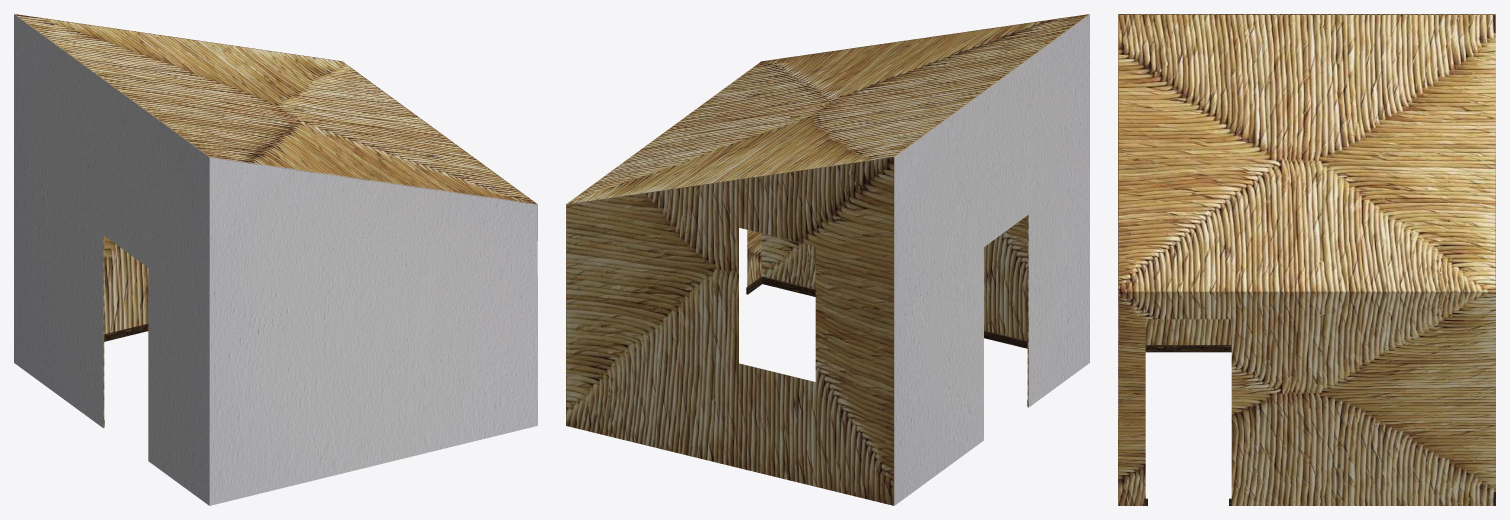
File: Pareti_Battiscopa_Tetto.fbx
3 renders of one model, left to right at view 1: azimuth 30°, elevation 25°; view 2: azimuth 150°, elevation 25°; view 3: azimuth 270°, elevation 25°, orthographic. The views are drawn at different scales.
Visible parts, largest first — view 1: Muro Vuoto, Muro con Porta (alto), Tetto, Muro con Finestra; view 2: Muro con Finestra, Muro con Porta (alto), Tetto, Muro Vuoto, Muro con Porta Basso, Zoccoletto 3; view 3: Tetto, Muro con Porta Basso, Muro con Porta (alto), Zoccoletto 2, Muro Vuoto.
Boxes of the visible parts, x1,y1,x2,y2 form: Muro Vuoto: (210, 157, 537, 505); Muro con Porta (alto): (14, 14, 210, 505); Tetto: (16, 14, 536, 204); Muro con Finestra: (15, 14, 341, 334); Muro con Finestra: (566, 157, 893, 505); Muro con Porta (alto): (893, 14, 1089, 505); Tetto: (566, 15, 1087, 204); Muro Vuoto: (761, 14, 1087, 340); Muro con Porta Basso: (566, 61, 761, 425); Zoccoletto 3: (761, 276, 1027, 348); Tetto: (1118, 15, 1495, 291); Muro con Porta Basso: (1118, 291, 1495, 505); Muro con Porta (alto): (1118, 14, 1495, 344); Zoccoletto 2: (1145, 345, 1231, 352); Muro Vuoto: (1118, 14, 1118, 505).
Bounding box in the file's own units: 1278 × 1297 × 1318.
